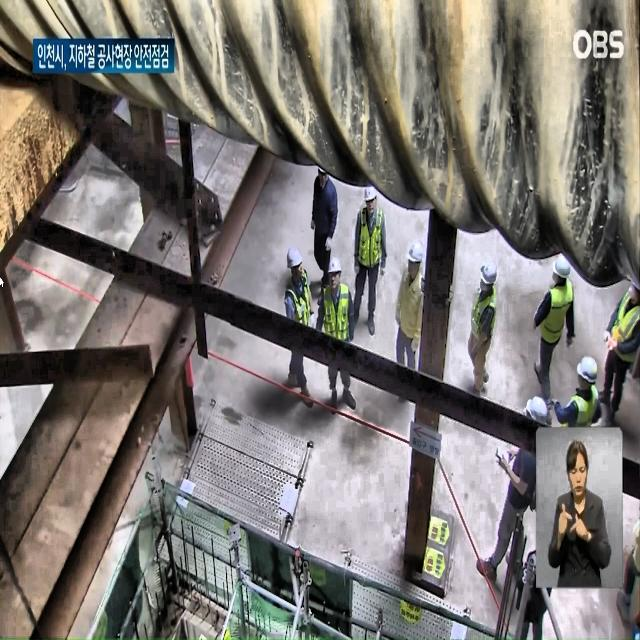safety_helmet: (523, 393, 548, 427), (576, 354, 596, 389), (479, 260, 497, 290), (550, 253, 570, 280), (408, 239, 423, 270), (286, 243, 302, 270), (362, 180, 378, 204), (325, 250, 342, 272)
safety_jacket: (568, 387, 604, 465), (613, 284, 640, 368), (538, 285, 574, 344), (320, 280, 353, 343), (470, 286, 494, 361), (288, 273, 314, 332), (358, 214, 386, 266)
